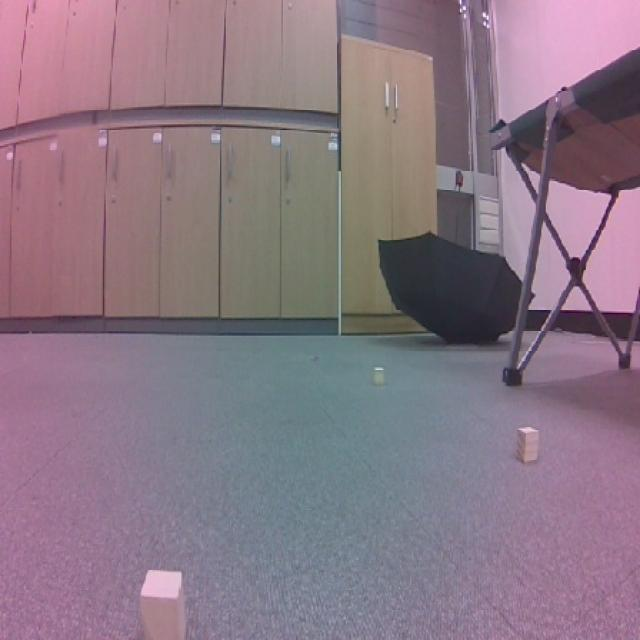obstacle: (131, 564, 196, 640), (503, 420, 548, 471)
